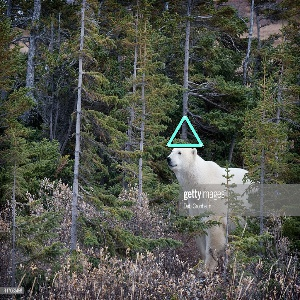triangle: (164, 112, 204, 151)
